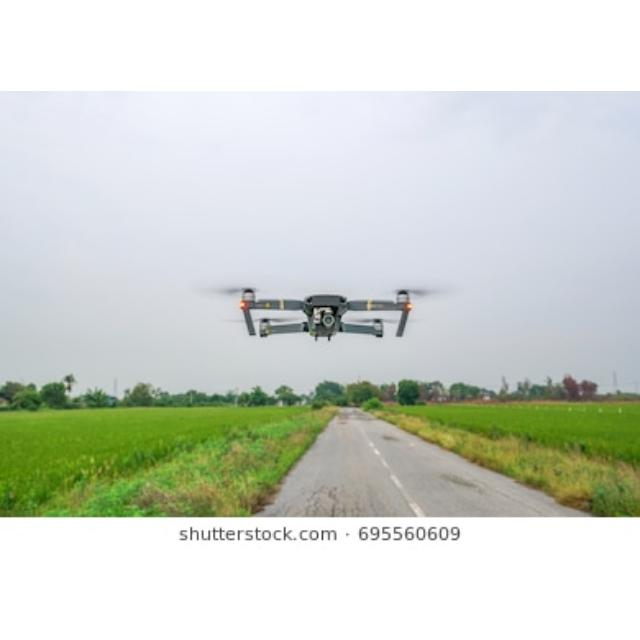Drones: (228, 274, 422, 348)
